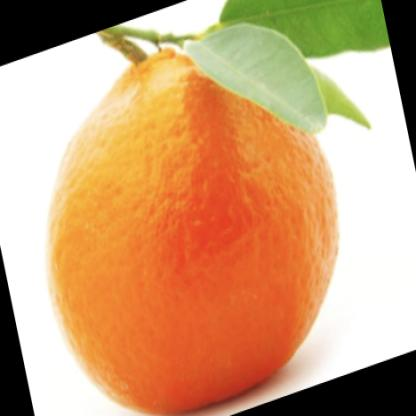fresh: (49, 47, 341, 414)
